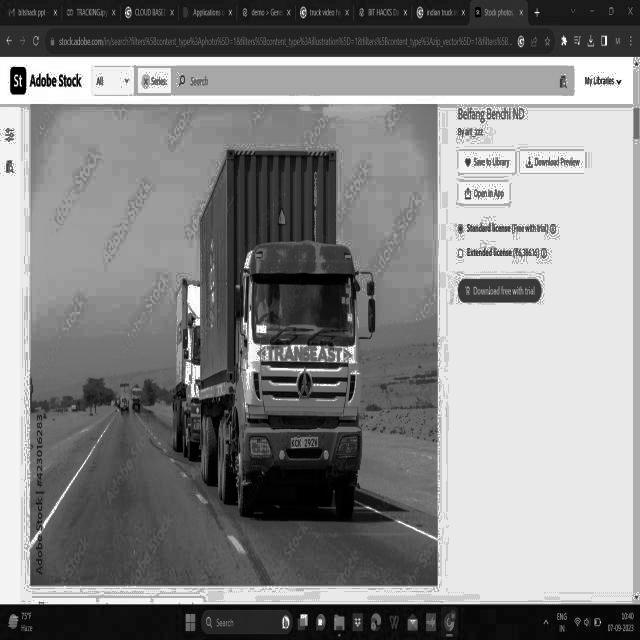HCV: (194, 131, 396, 541)
